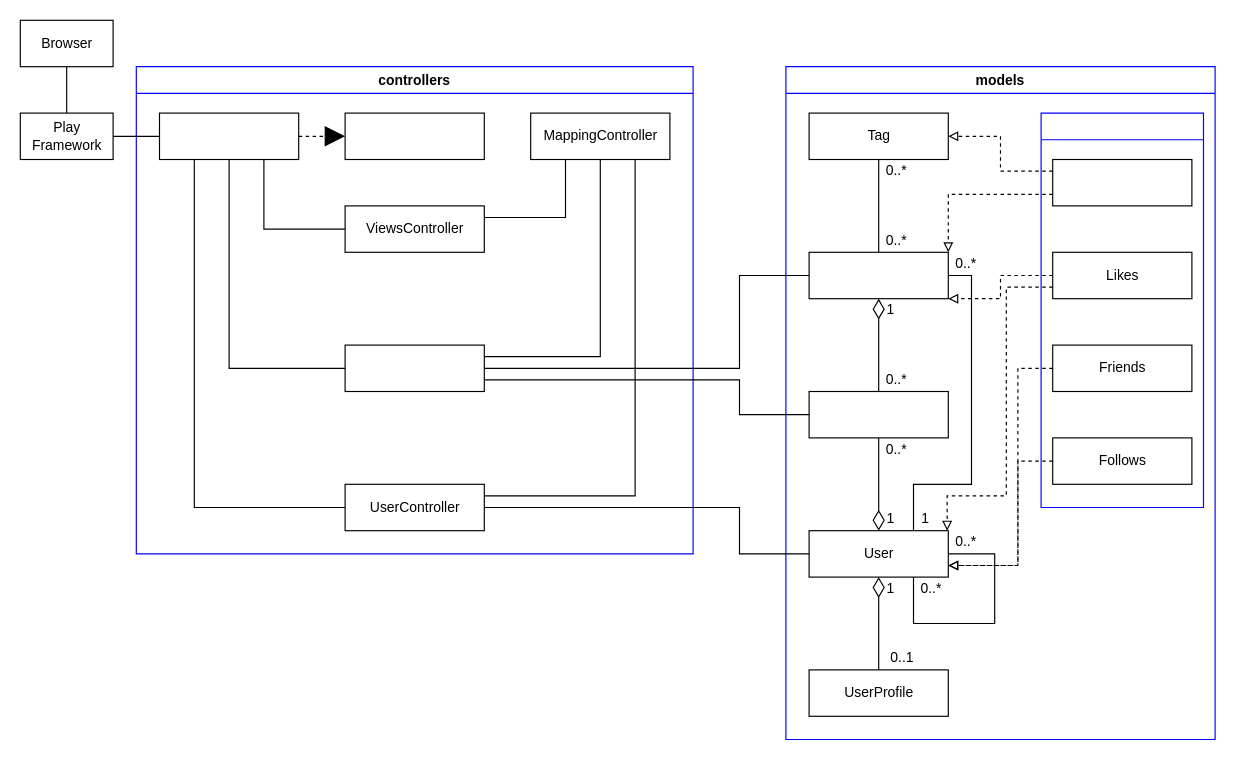
This 1235x760 diagram has some shape labels left out. Here are the shapes that lost their labels. From the top down, the box of each, then its label:
(158, 112, 299, 160): SessionControler
(344, 112, 484, 160): UserAuthenticator
(1052, 158, 1192, 206): Tags
(808, 251, 948, 299): Picture
(1040, 112, 1204, 507): relationships
(344, 344, 484, 392): PictureController
(808, 390, 948, 438): Comment
